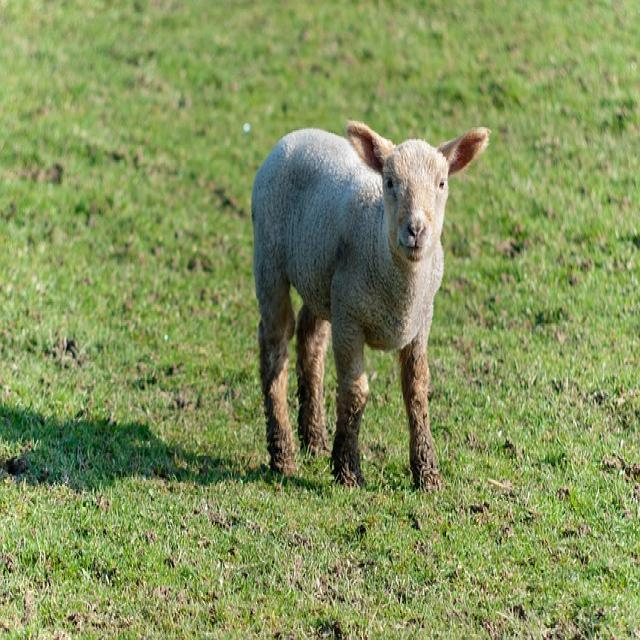goat: (251, 121, 489, 491), (251, 121, 489, 491)
